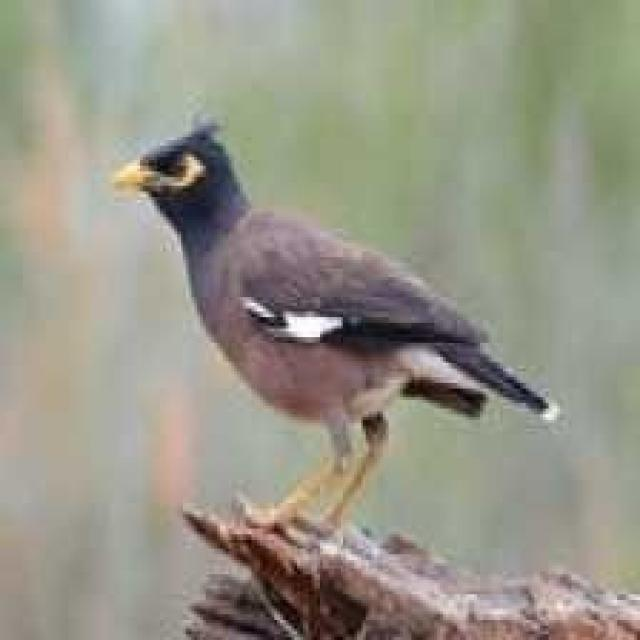bird: (101, 112, 564, 550)
